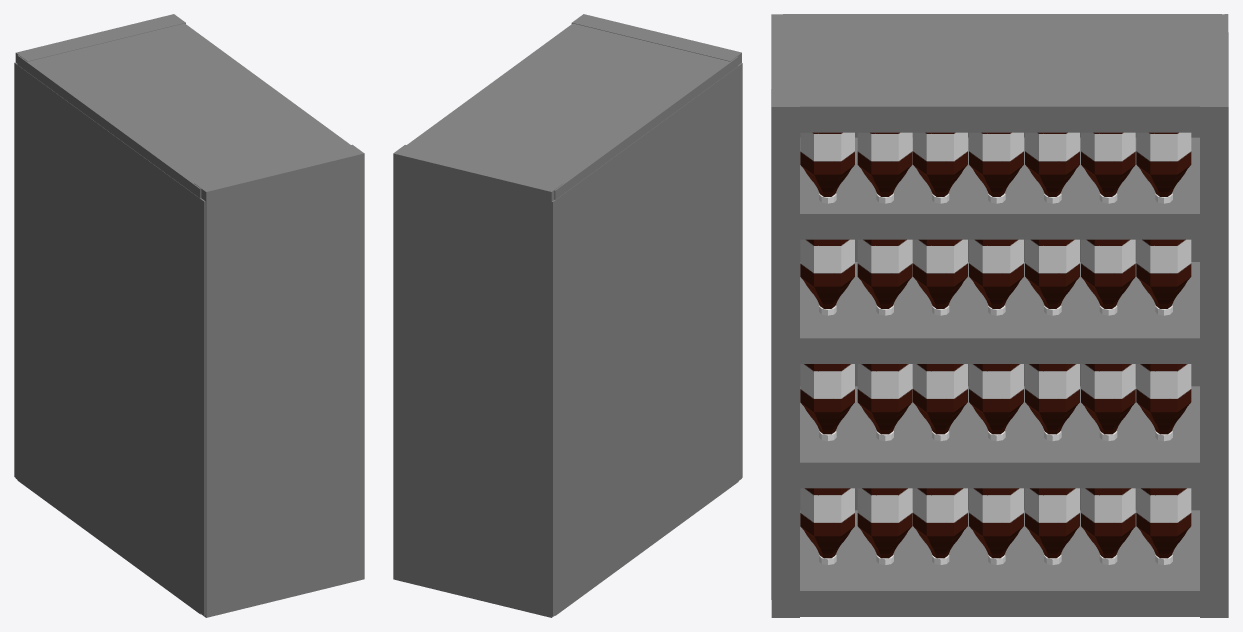
Rendered from bbq_sauce_shelf.gltf.
The picture shows the model from 3 angles, left to right: view 1: azimuth 30°, elevation 25°; view 2: azimuth 150°, elevation 25°; view 3: azimuth 270°, elevation 25°; orthographic projection. The views are drawn at different scales.
Parts seen in each view (by area): view 1: Cube.005; view 2: Cube.005; view 3: Cube.005.
Boxes of the visible parts, x1,y1,x2,y2 form: Cube.005: (14, 14, 364, 617); Cube.005: (393, 14, 742, 617); Cube.005: (771, 14, 1228, 617).
Size of the model in its own units: 4.03 by 10.28 by 8.34.
Materials: 4 (1 with a texture image).
